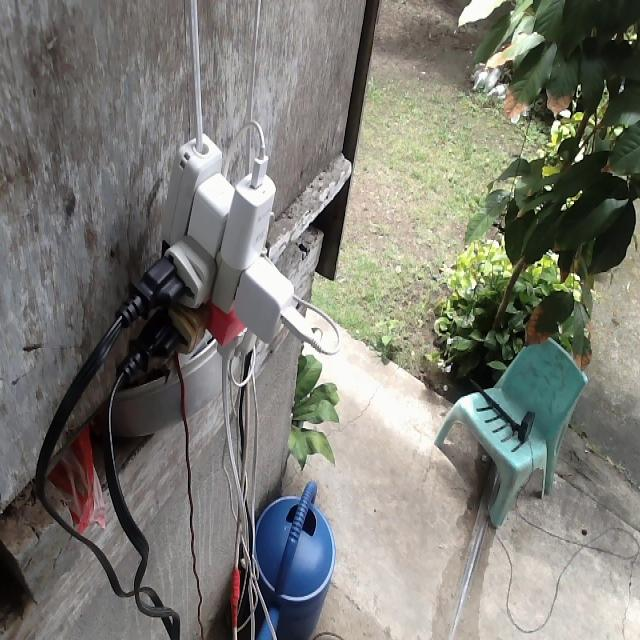-: (143, 125, 297, 372)
